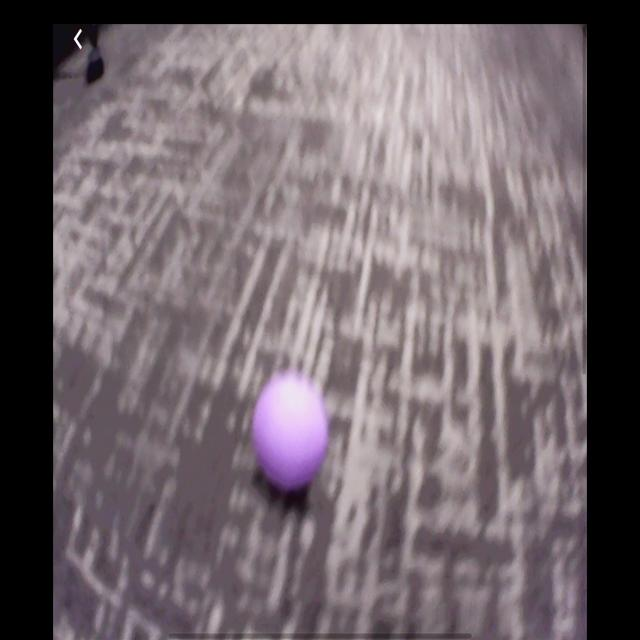ball: (252, 369, 331, 494)
